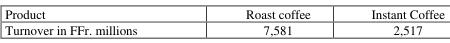table: (4, 3, 443, 37)
table column: (4, 3, 190, 37), (190, 3, 340, 37), (340, 3, 443, 37)
table column header: (4, 3, 443, 20)
table row: (4, 3, 443, 20), (4, 20, 443, 37)
